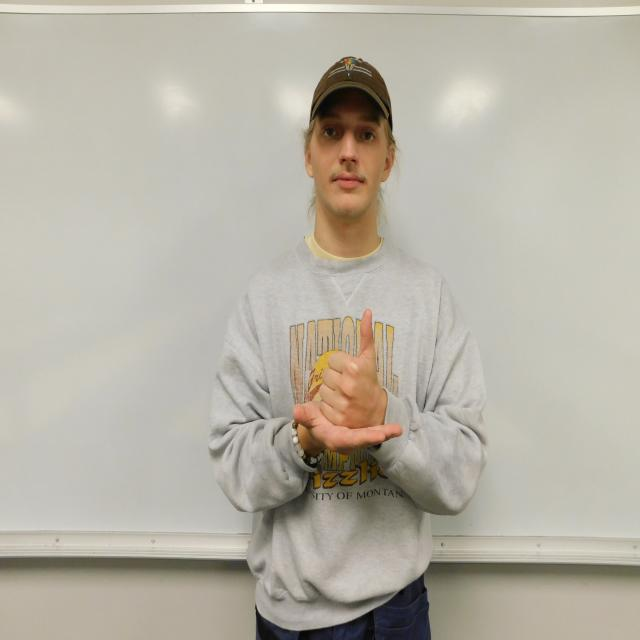help: (293, 309, 403, 456)
